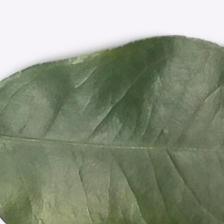healthy: (2, 45, 163, 218)
